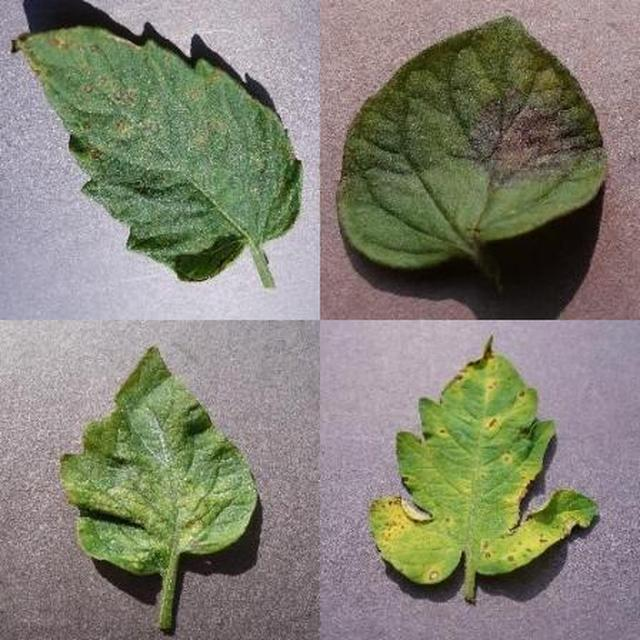Septoria Leaf: (227, 205, 640, 640)
